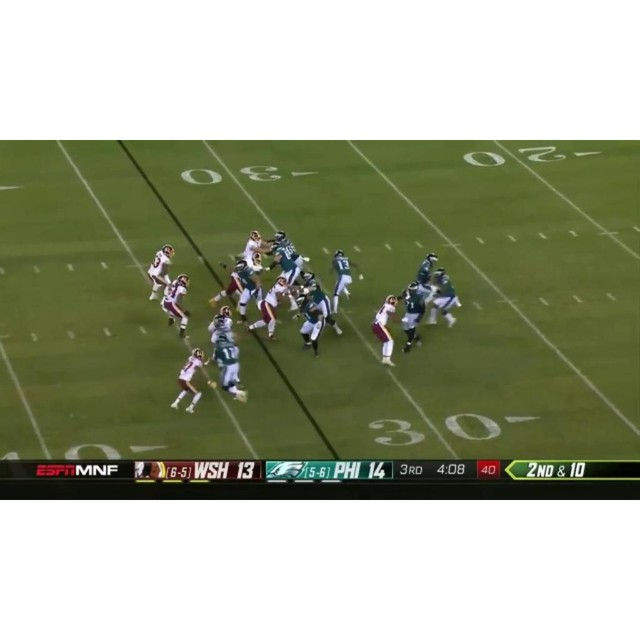american-football-player: (248, 275, 290, 339), (302, 273, 343, 337), (171, 348, 209, 413), (212, 333, 247, 403), (231, 258, 266, 326), (399, 280, 428, 355), (370, 295, 399, 366), (160, 274, 192, 338), (428, 268, 462, 328), (295, 293, 324, 360), (329, 249, 357, 313), (147, 245, 174, 302), (414, 253, 439, 310), (207, 305, 234, 349), (241, 231, 264, 268)
